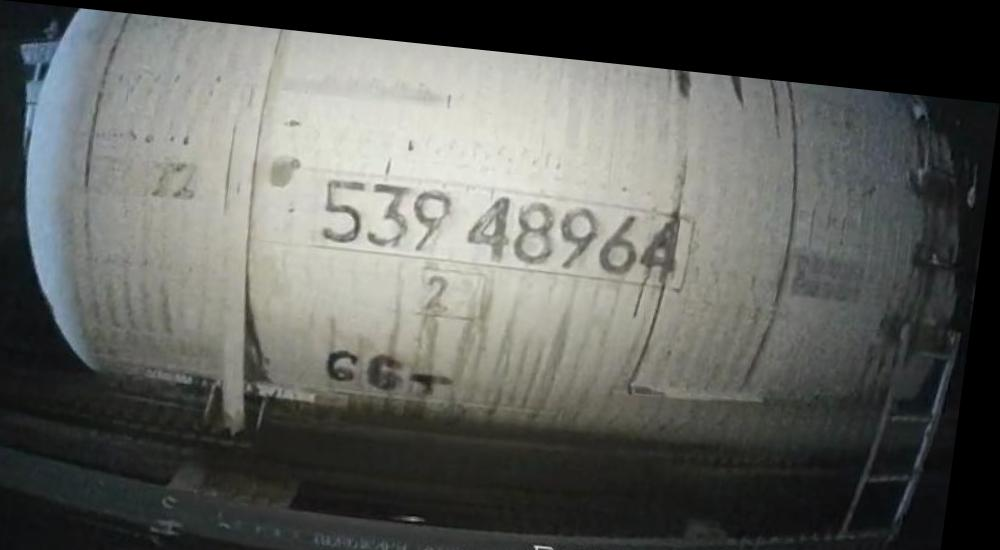Wagon-number: (313, 165, 692, 273)
